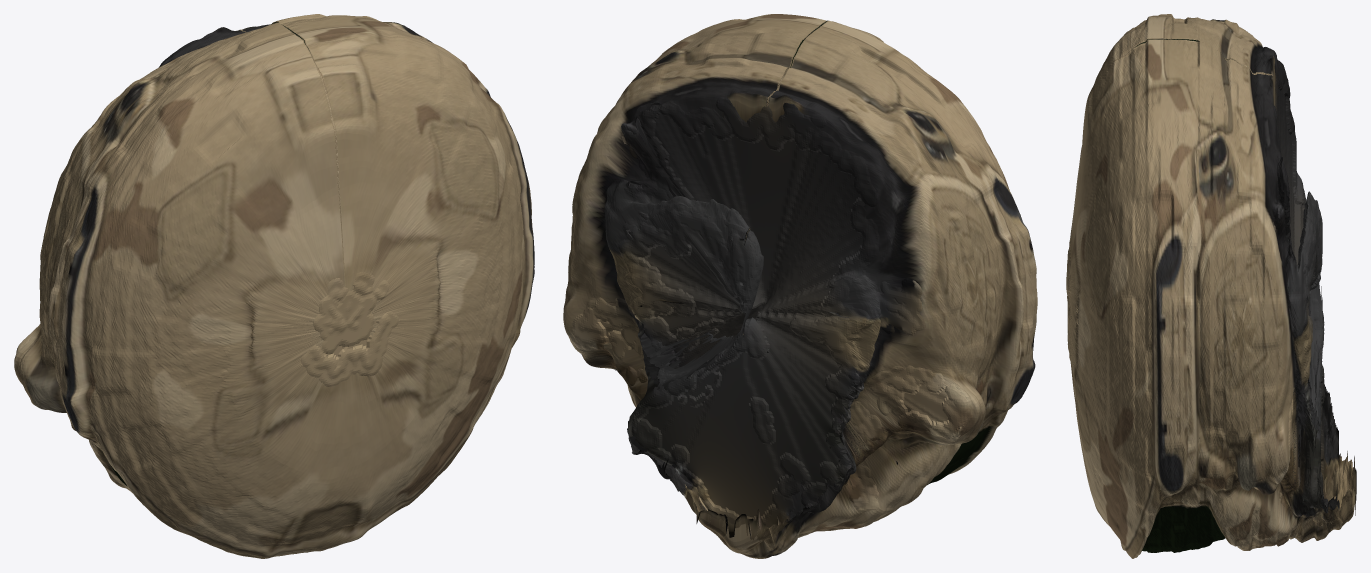
File: volume2_mesh.glb
3 views of the same model, side by side, from view 1: azimuth 30°, elevation 25°; view 2: azimuth 150°, elevation 25°; view 3: azimuth 270°, elevation 25° (orthographic). The views are drawn at different scales.
Visible parts, largest first — view 1: ipn, fill; view 2: ipn, fill; view 3: ipn, fill.
Part boxes in pixels (<box>): ipn: <box>14,14,534,558</box>; fill: <box>23,272,398,386</box>; ipn: <box>563,14,1037,558</box>; fill: <box>571,96,970,527</box>; ipn: <box>1068,14,1356,558</box>; fill: <box>1066,51,1326,526</box>.
Size of the model in its own units: 1.93 by 2 by 1.05.
2 materials, 1 textured.
